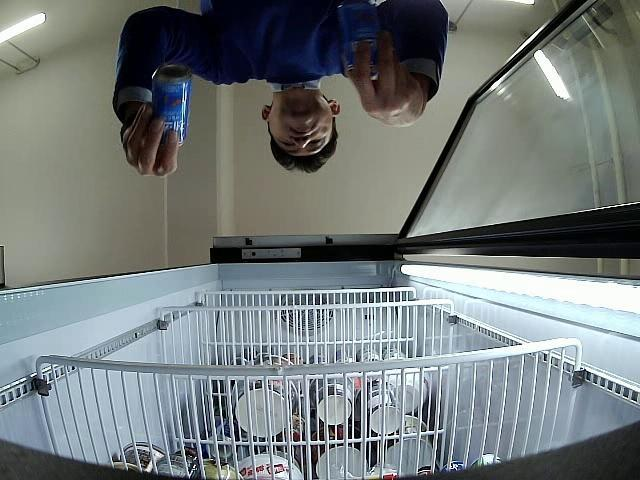15_letsbe: (148, 63, 192, 146), (338, 0, 380, 81)
